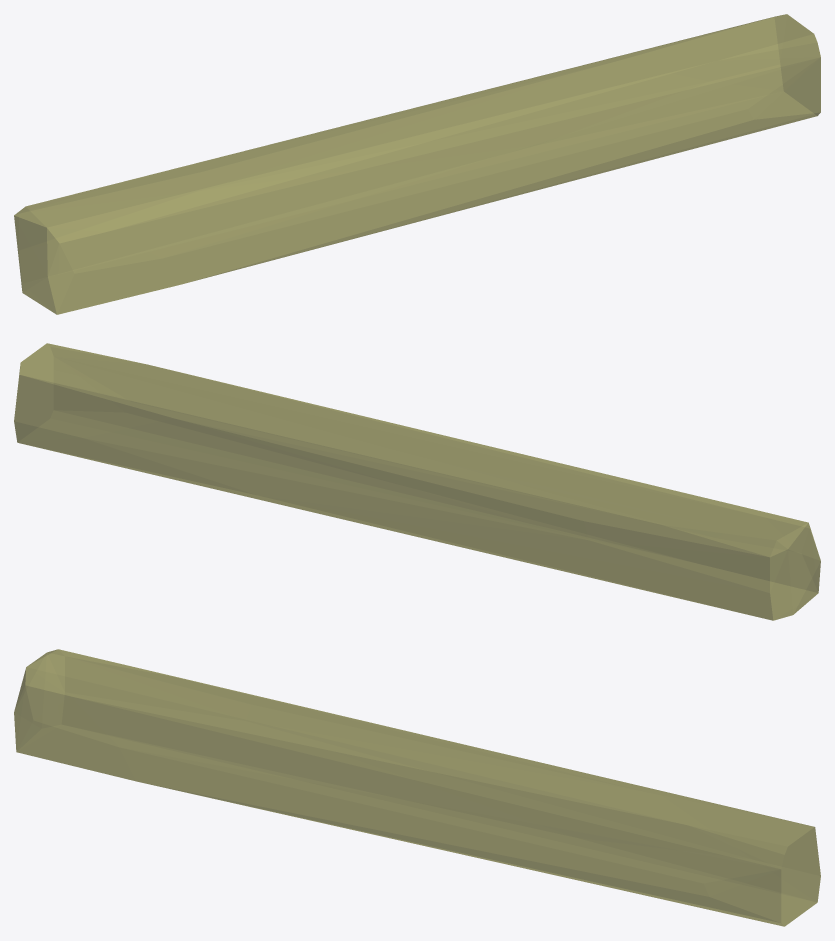
3 views of the same model, one above another, from view 1: azimuth 30°, elevation 25°; view 2: azimuth 150°, elevation 25°; view 3: azimuth 330°, elevation 25° (orthographic). The views are drawn at different scales.
Visible parts, largest first — view 1: Shape_IndexedFaceSet.006_Shape_IndexedFaceSet.5657; view 2: Shape_IndexedFaceSet.006_Shape_IndexedFaceSet.5657; view 3: Shape_IndexedFaceSet.006_Shape_IndexedFaceSet.5657.
Part boxes in pixels (<box>): Shape_IndexedFaceSet.006_Shape_IndexedFaceSet.5657: <box>14,14,820,314</box>; Shape_IndexedFaceSet.006_Shape_IndexedFaceSet.5657: <box>14,343,820,620</box>; Shape_IndexedFaceSet.006_Shape_IndexedFaceSet.5657: <box>14,649,820,926</box>.
Size of the model in its own units: 0.5697 by 0.0557 by 0.0642.
